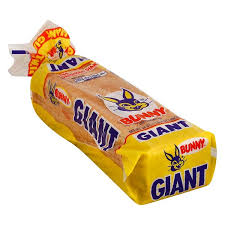bread: (8, 24, 218, 206)
